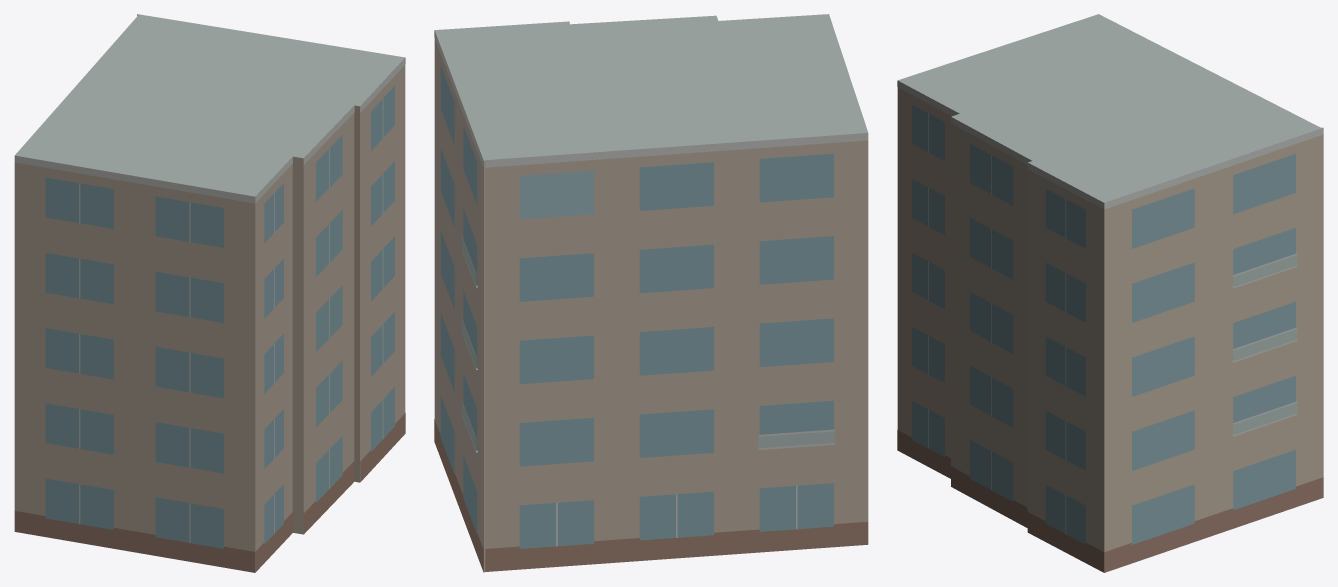
Rendered from survey-upis-32904918.glb.
3 renders of one model, left to right at view 1: azimuth 30°, elevation 25°; view 2: azimuth 150°, elevation 25°; view 3: azimuth 270°, elevation 25°, orthographic. The views are drawn at different scales.
Parts seen in each view (by area): view 1: survey-upis-32904918.tmp; view 2: survey-upis-32904918.tmp; view 3: survey-upis-32904918.tmp.
Boxes of the visible parts, x1,y1,x2,y2 form: survey-upis-32904918.tmp: (14, 14, 405, 572); survey-upis-32904918.tmp: (434, 14, 868, 572); survey-upis-32904918.tmp: (897, 14, 1323, 572).
Size of the model in its own units: 14.68 by 13.4 by 13.99.
